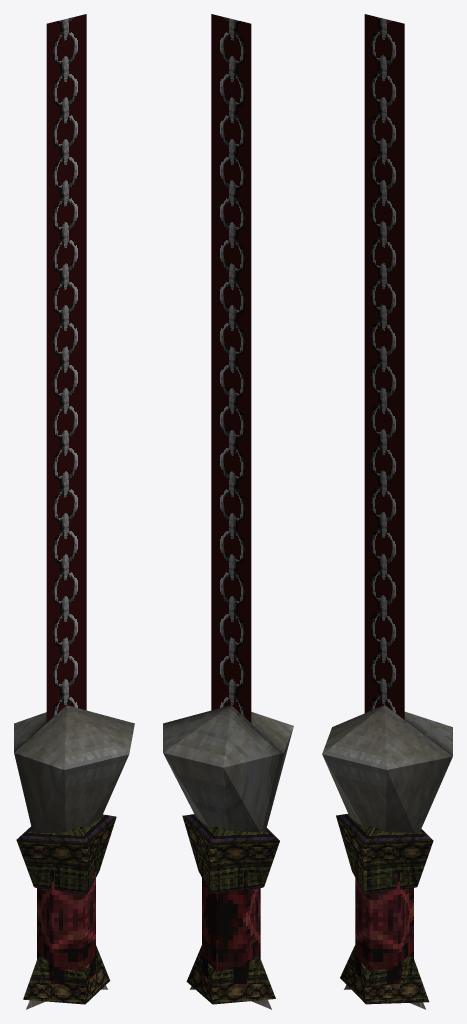
File: hook.glb
3 views of the same model, side by side, from view 1: azimuth 30°, elevation 25°; view 2: azimuth 150°, elevation 25°; view 3: azimuth 330°, elevation 25° (orthographic).
Parts seen in each view (by area): view 1: chain, hook; view 2: chain, hook; view 3: chain, hook.
Boxes of the visible parts, x1,y1,x2,y2 form: chain: (46,14,86,722); hook: (14,705,134,1004); chain: (211,14,251,722); hook: (163,705,293,1004); chain: (364,14,404,719); hook: (322,705,452,1004).
Size of the model in its own units: 1.09 by 8.43 by 0.9406.
Materials: 4 (4 with a texture image).
